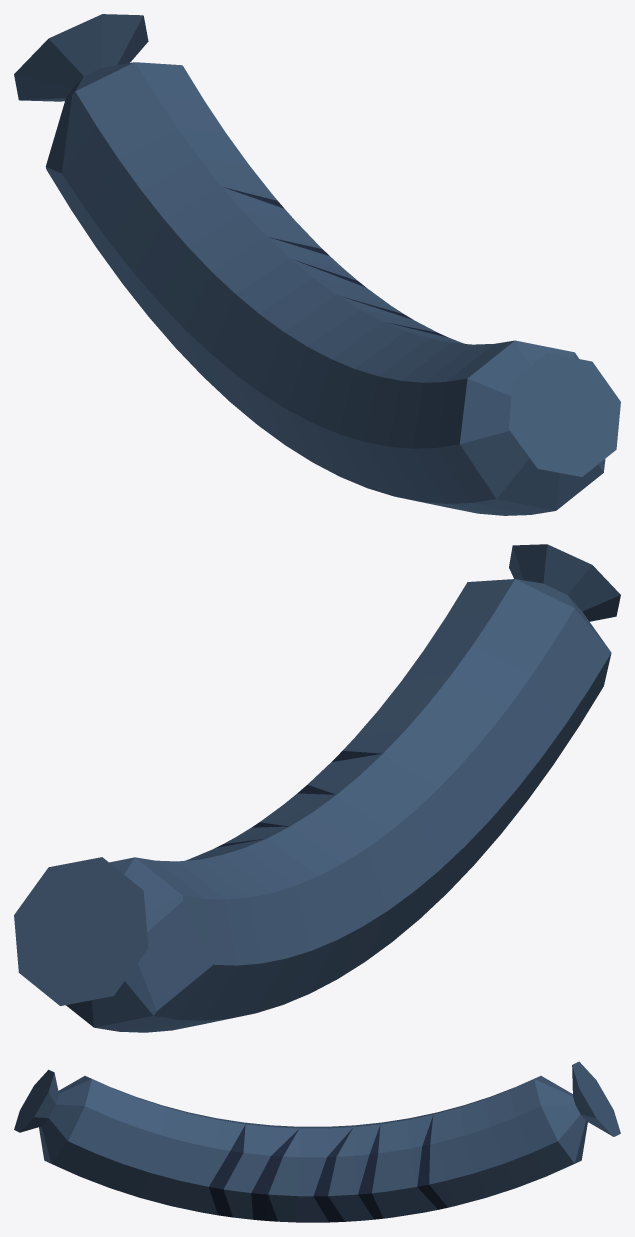
Rendered from Worst.fbx.
3 renders of one model, top to bottom at view 1: azimuth 30°, elevation 25°; view 2: azimuth 150°, elevation 25°; view 3: azimuth 270°, elevation 25°, orthographic. The views are drawn at different scales.
Visible parts, largest first — view 1: betterwurst; view 2: betterwurst; view 3: betterwurst.
Boxes of the visible parts, bbox=[...] form: betterwurst: bbox=[14, 14, 620, 515]; betterwurst: bbox=[14, 544, 620, 1032]; betterwurst: bbox=[14, 1061, 620, 1222].
Size of the model in its own units: 100 by 169 by 596.
